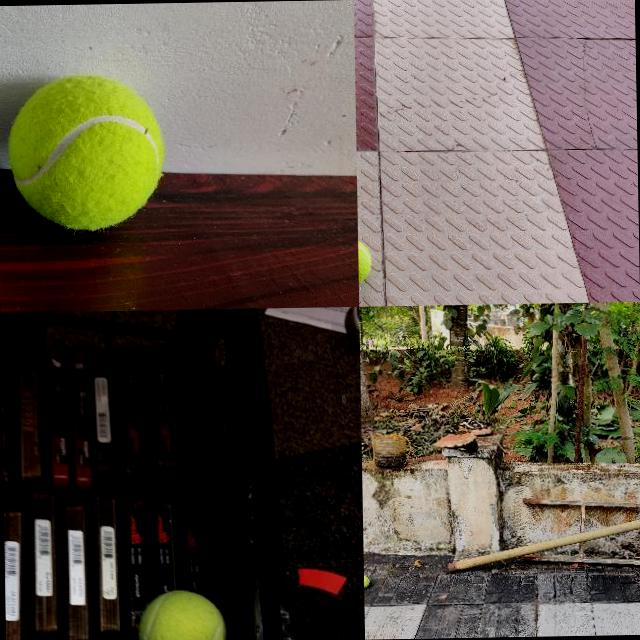Tennis Ball: (6, 72, 166, 232), (135, 586, 228, 640), (358, 237, 372, 286), (364, 574, 370, 588)
